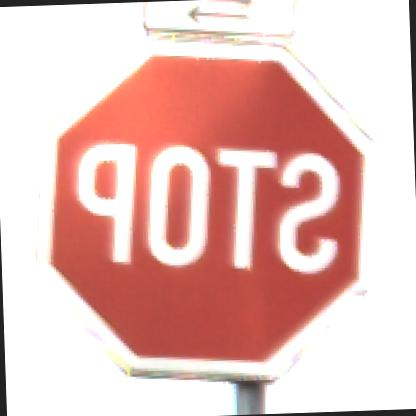stop: (17, 45, 386, 393)
